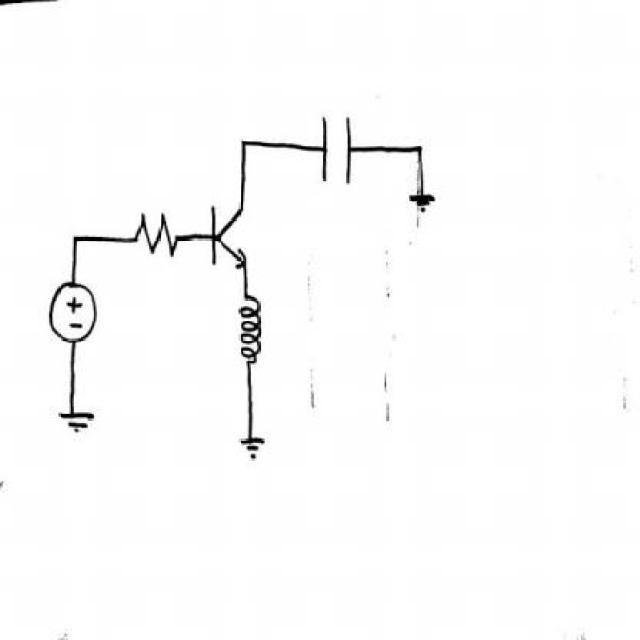capacitor: (308, 106, 366, 196)
ground: (49, 401, 122, 461), (214, 434, 304, 468), (396, 174, 453, 227)
inductor: (229, 288, 276, 372)
resistor: (124, 198, 180, 268)
transistor: (203, 194, 263, 271)
voltage_source: (40, 264, 103, 354)
